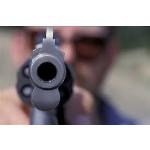Pistol: (15, 27, 76, 123)
